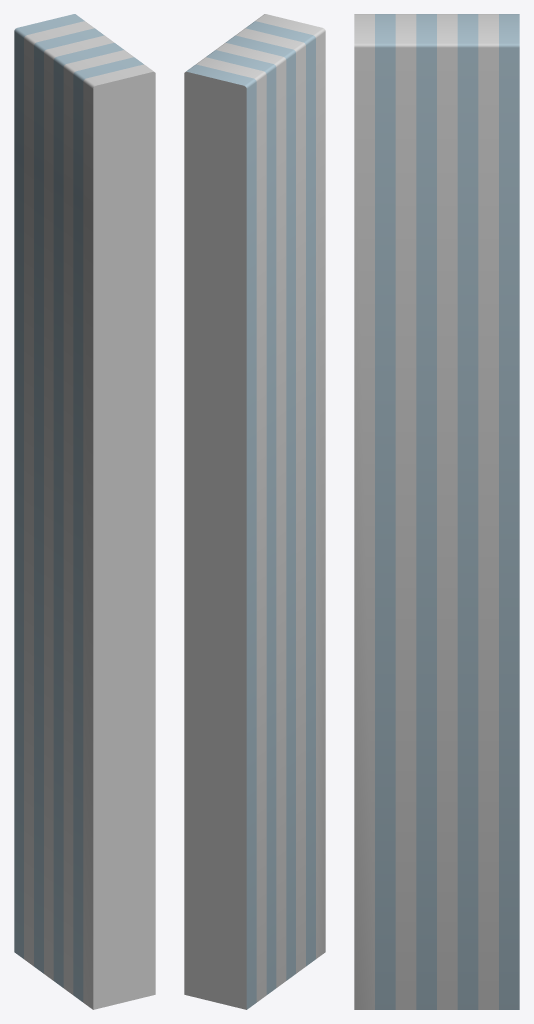
Rendered from Platform.fbx.
3 views of the same model, side by side, from view 1: azimuth 30°, elevation 25°; view 2: azimuth 150°, elevation 25°; view 3: azimuth 270°, elevation 25° (orthographic). The views are drawn at different scales.
Parts seen in each view (by area): view 1: Road; view 2: Road; view 3: Road.
Boxes of the visible parts, x1,y1,x2,y2 form: Road: [14, 14, 155, 1009]; Road: [184, 14, 325, 1009]; Road: [354, 14, 519, 1009].
Size of the model in its own units: 300 by 4236 by 657.
